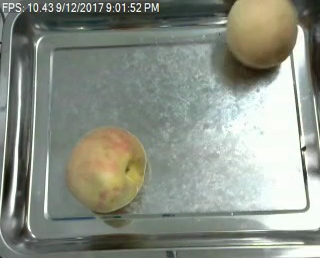Peach: (64, 125, 148, 213), (225, 0, 300, 69)
